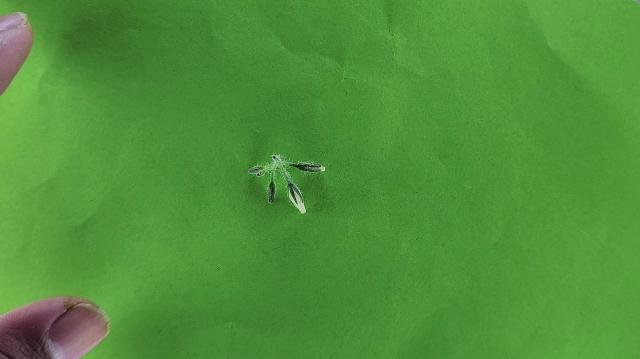Flower Bud: (286, 180, 306, 214), (288, 162, 326, 173), (247, 165, 266, 176), (268, 185, 274, 203)
